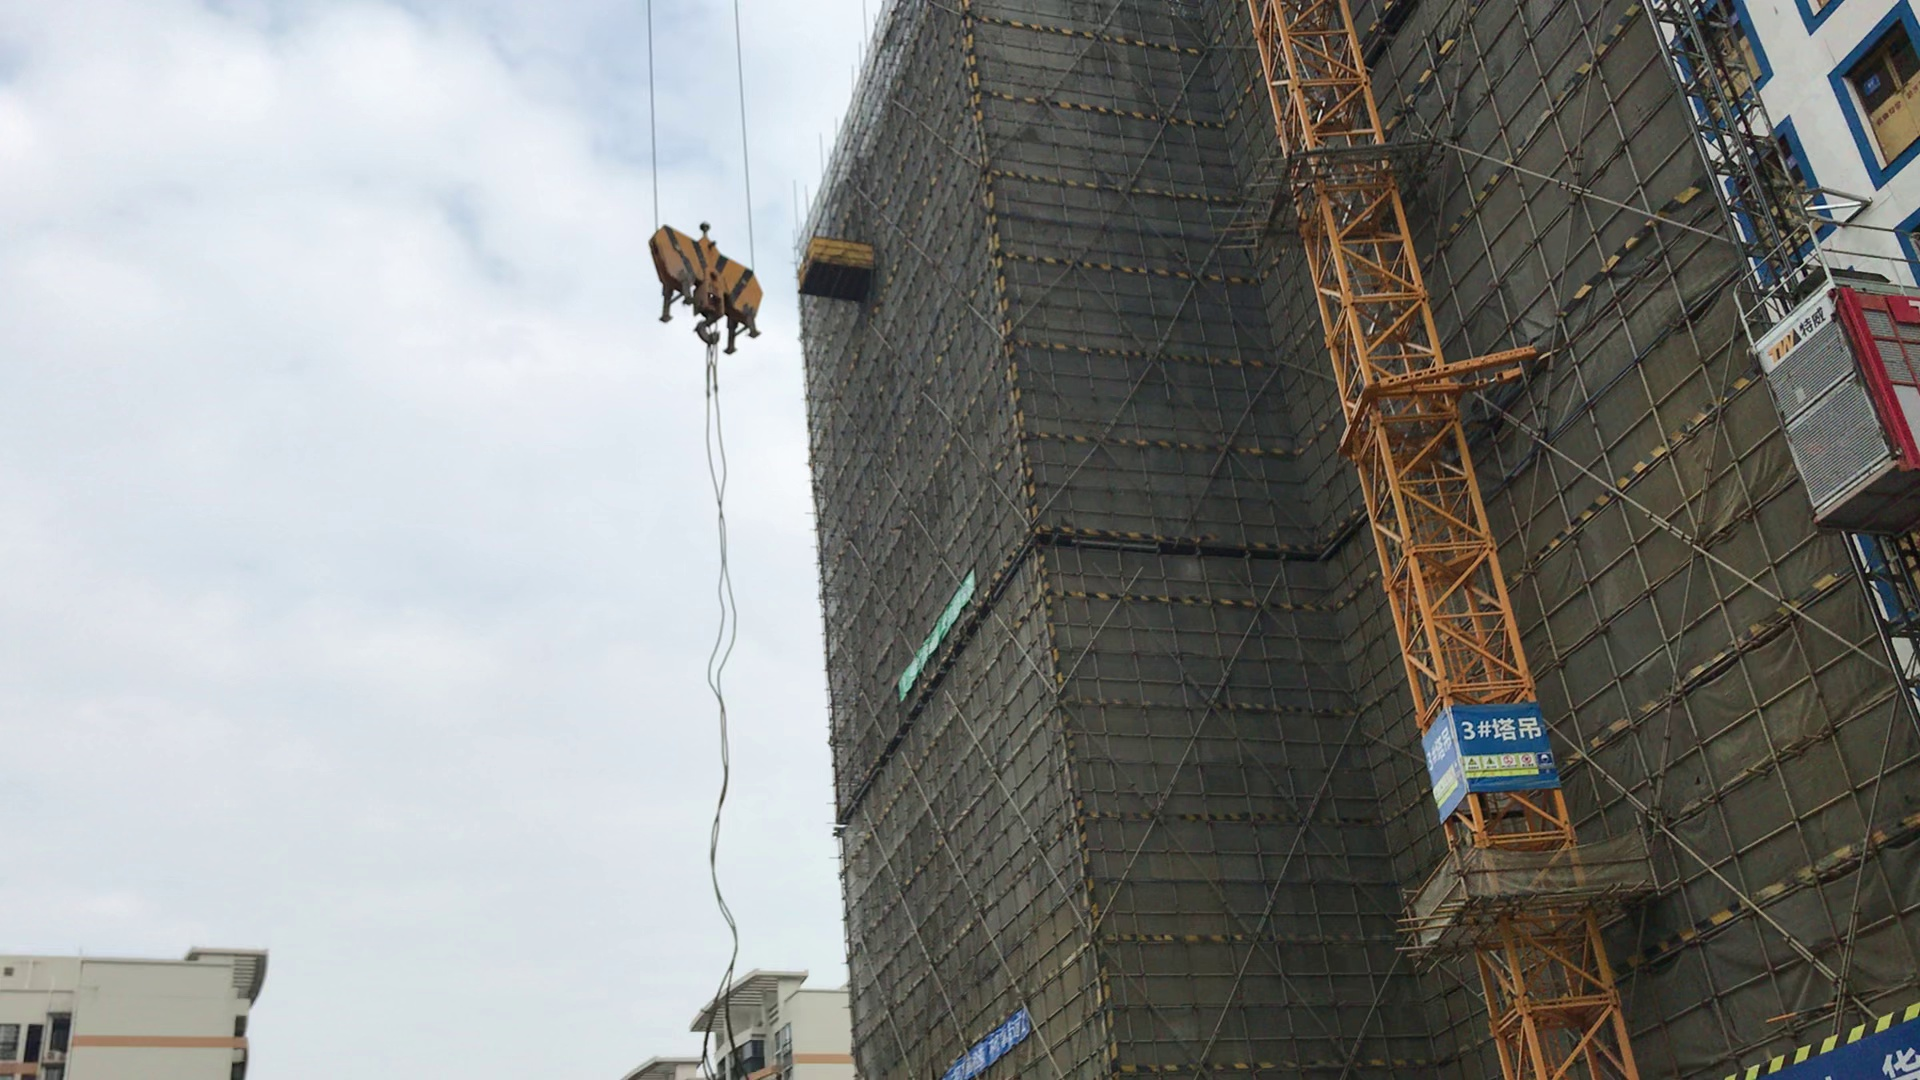hook: (624, 200, 789, 353)
slogan: (886, 572, 1009, 688), (920, 1025, 1058, 1080)
